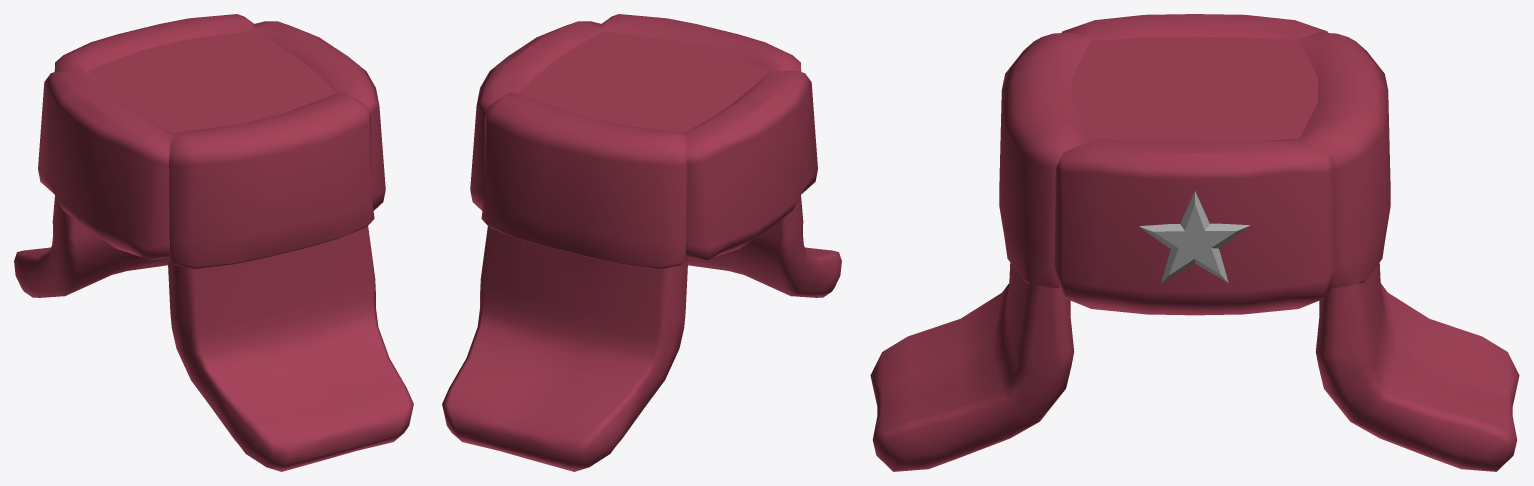
File: Hat_Ear_flaps.fbx
3 renders of one model, left to right at view 1: azimuth 30°, elevation 25°; view 2: azimuth 150°, elevation 25°; view 3: azimuth 270°, elevation 25°, orthographic. The views are drawn at different scales.
Parts seen in each view (by area): view 1: Hap_Ear_flaps; view 2: Hap_Ear_flaps; view 3: Hap_Ear_flaps.
Part boxes in pixels (box(x1,y1,x2,y2)): Hap_Ear_flaps: box(14, 14, 413, 471); Hap_Ear_flaps: box(442, 14, 841, 471); Hap_Ear_flaps: box(870, 14, 1519, 471).
Size of the model in its own units: 1.36 by 1.38 by 2.27.
